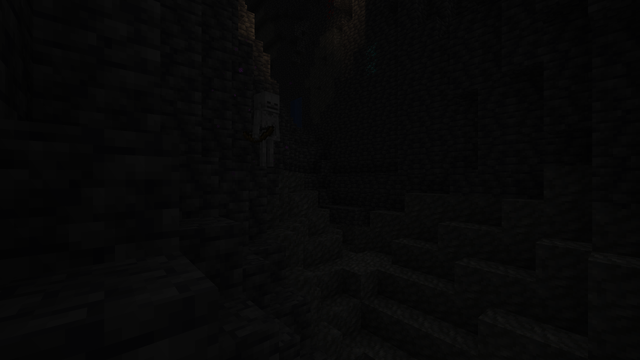squelettes: (252, 90, 281, 166)
